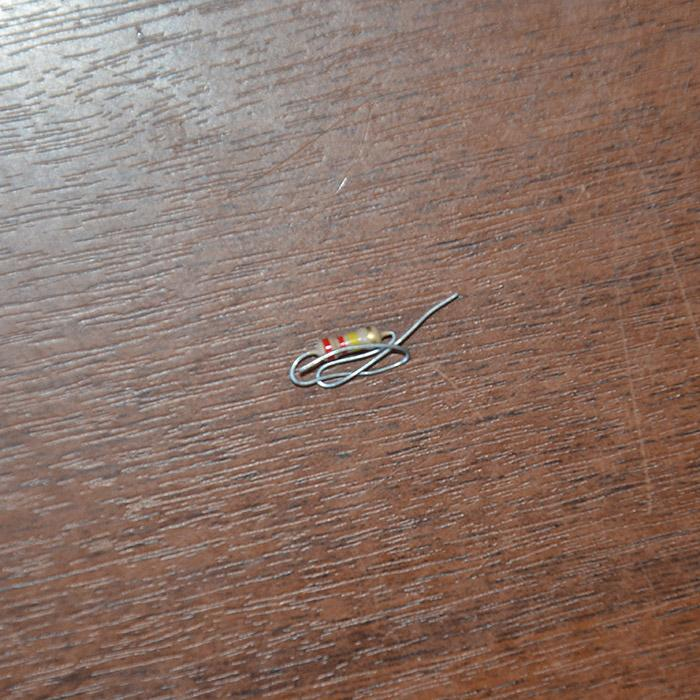resistor: (310, 325, 390, 358)
